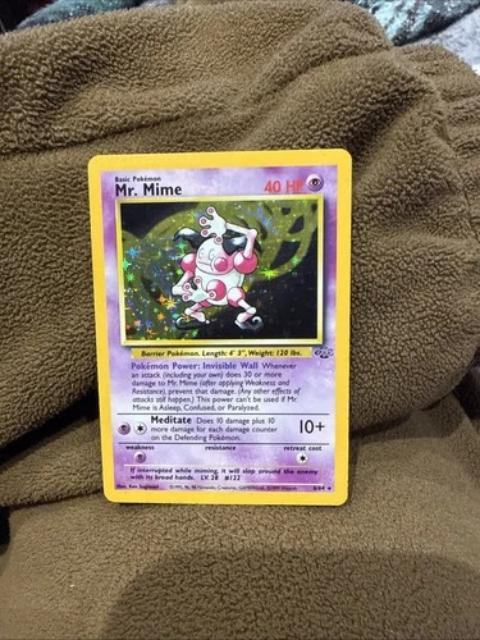Card: (86, 147, 353, 506)
Name: (108, 177, 182, 198)
